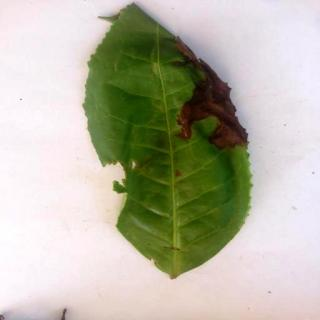Brown Blight: (85, 5, 253, 275)
